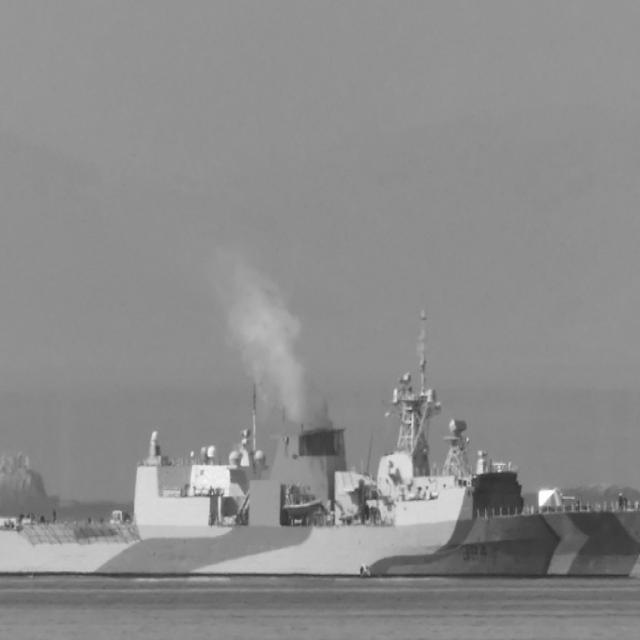Fragata: (1, 319, 640, 591)
